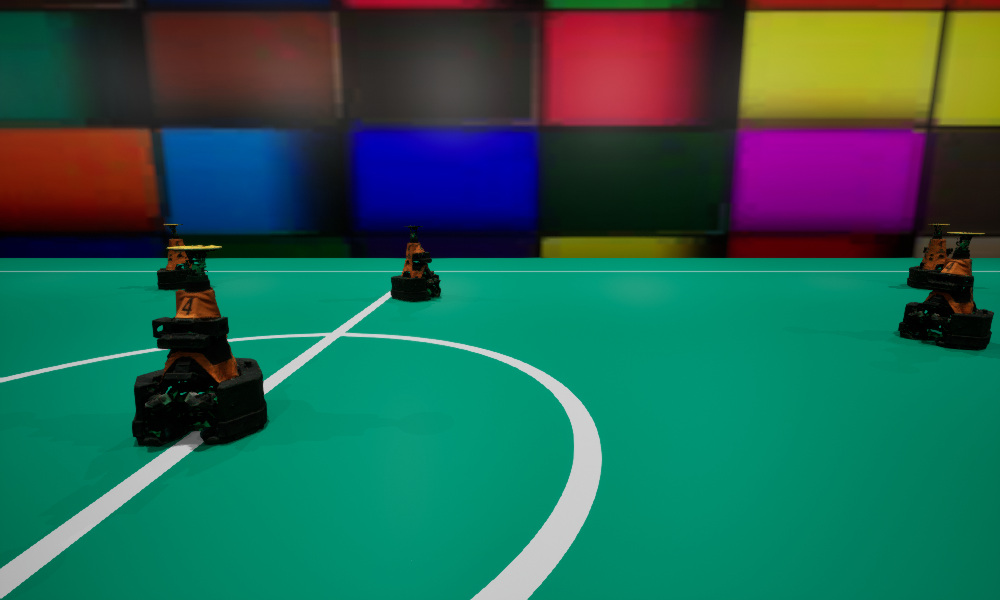0 orange robot TechUnited: (132, 245, 266, 446), (898, 232, 993, 349), (391, 225, 440, 301), (157, 224, 203, 289), (907, 224, 952, 289)
